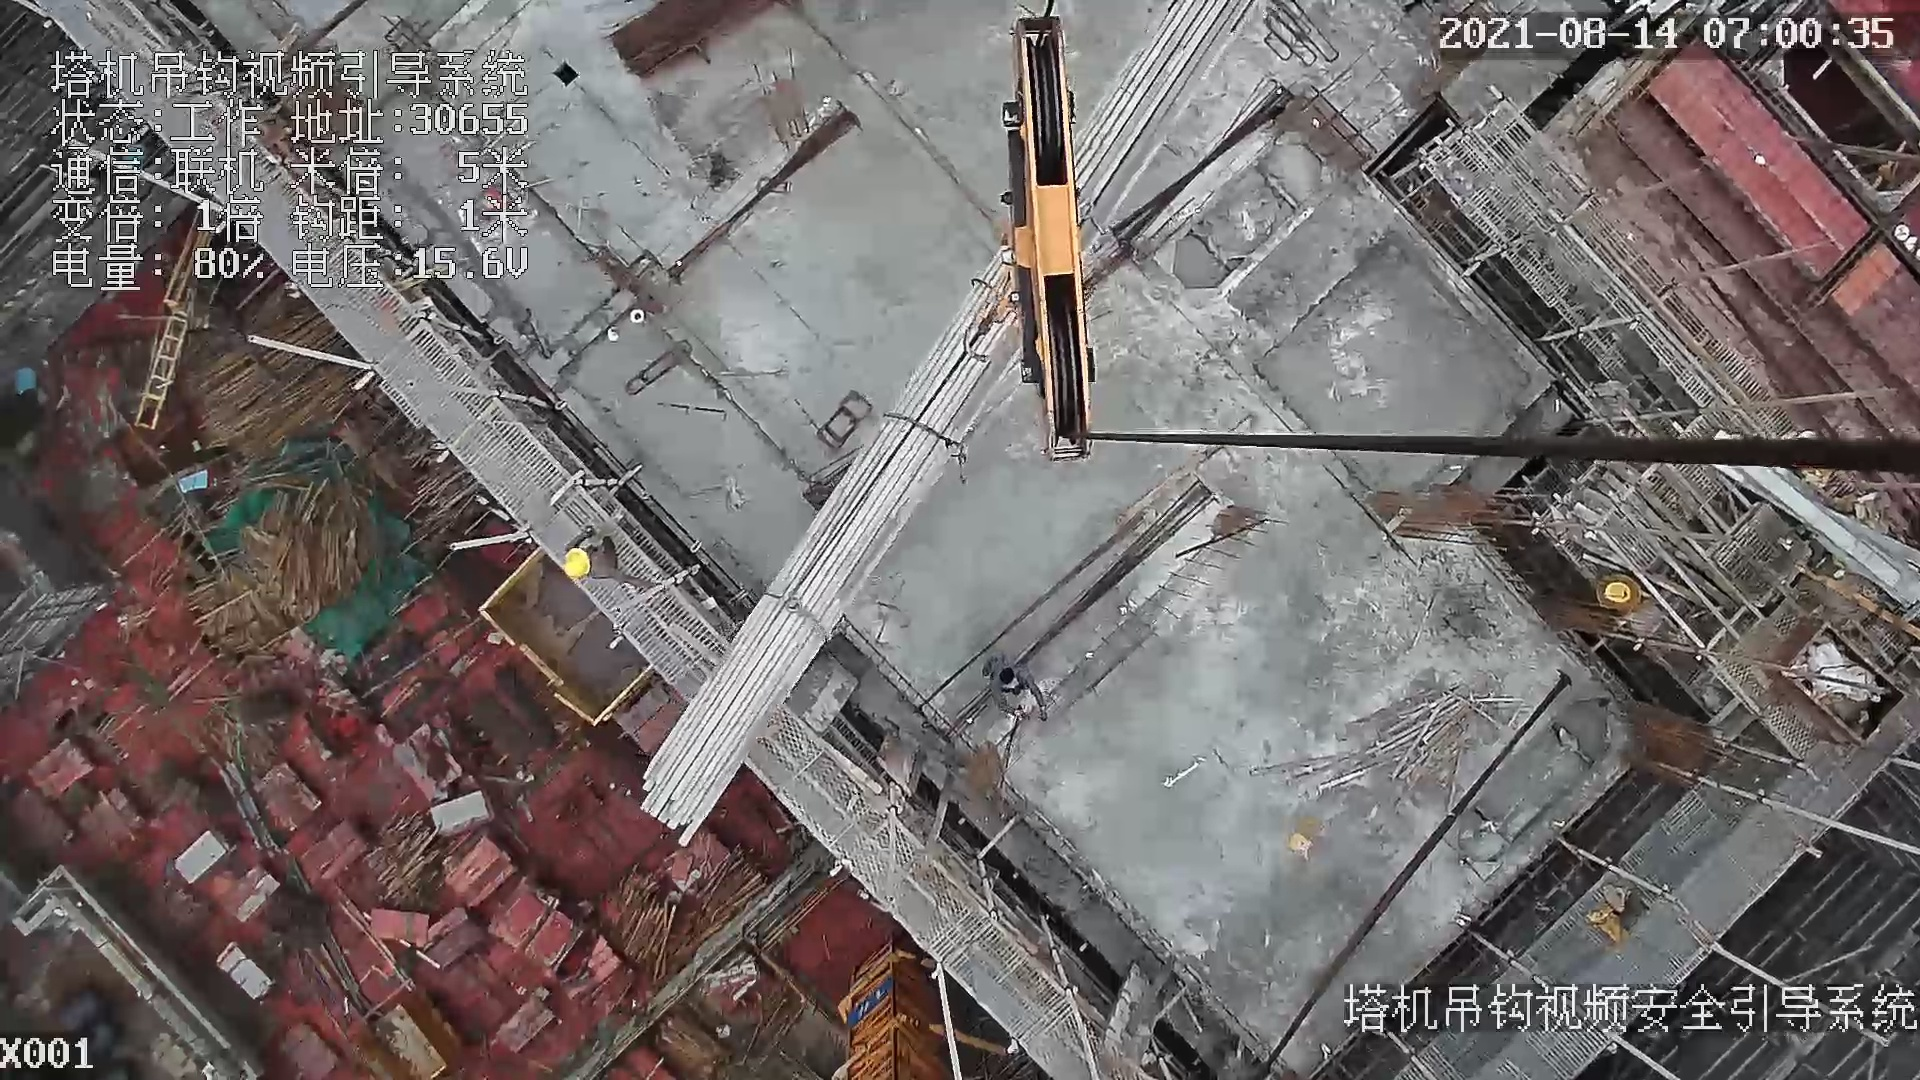helmet: (562, 545, 595, 581)
hook: (954, 6, 1097, 472)
person: (555, 524, 659, 590), (981, 651, 1051, 726)
